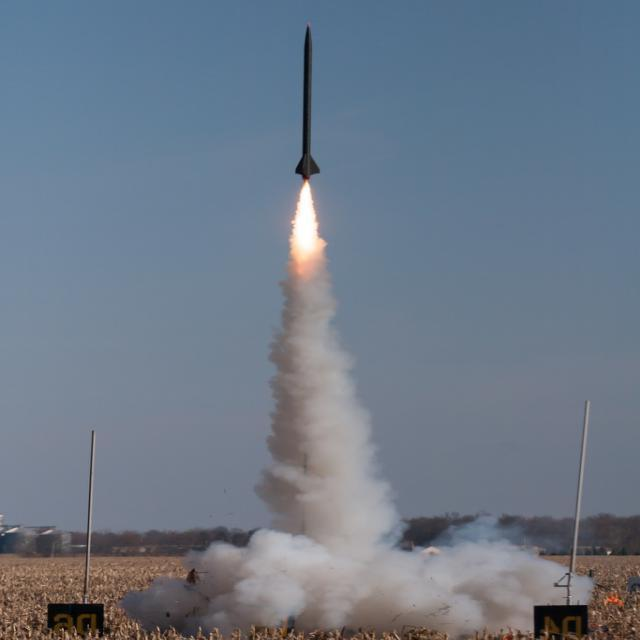missile: (294, 21, 321, 182)
